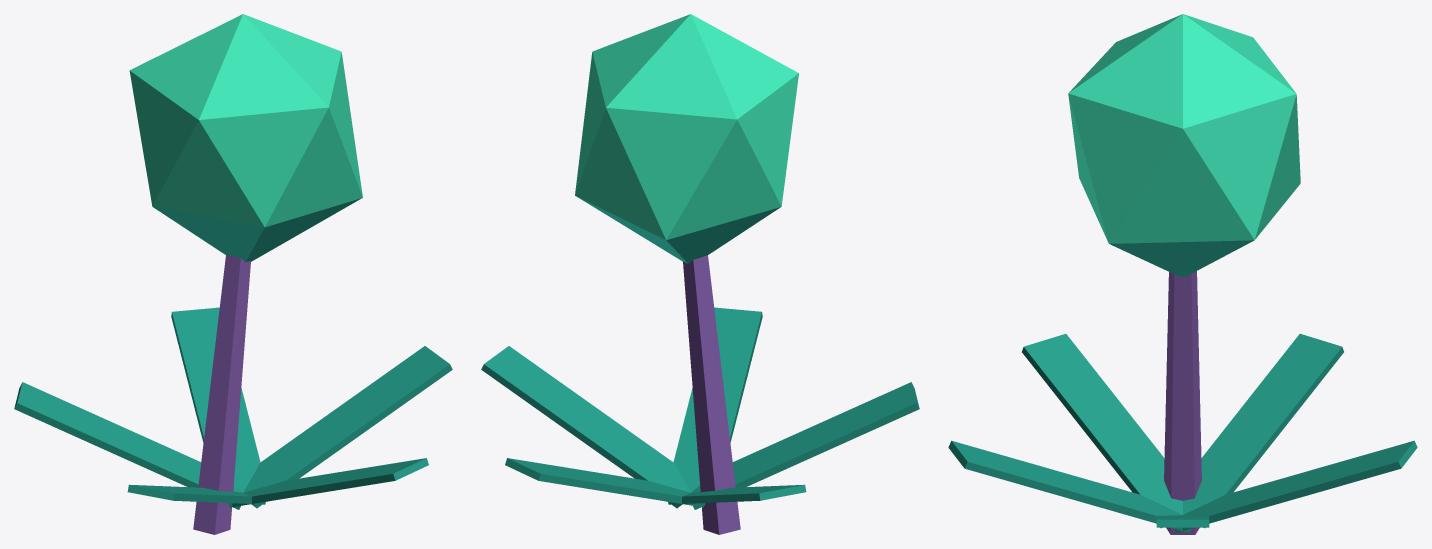
Rendered from Alien_Bulb_Plant.obj.
3 views of the same model, side by side, from view 1: azimuth 30°, elevation 25°; view 2: azimuth 150°, elevation 25°; view 3: azimuth 270°, elevation 25° (orthographic). The views are drawn at different scales.
Parts seen in each view (by area): view 1: Alien_Bulb_Plant; view 2: Alien_Bulb_Plant; view 3: Alien_Bulb_Plant.
Boxes of the visible parts, x1=… form: Alien_Bulb_Plant: x1=14, y1=14, x2=452, y2=534; Alien_Bulb_Plant: x1=481, y1=14, x2=919, y2=534; Alien_Bulb_Plant: x1=948, y1=14, x2=1417, y2=534.
Size of the model in its own units: 1.7 by 2.23 by 1.79.
Materials: 1 (1 with a texture image).
